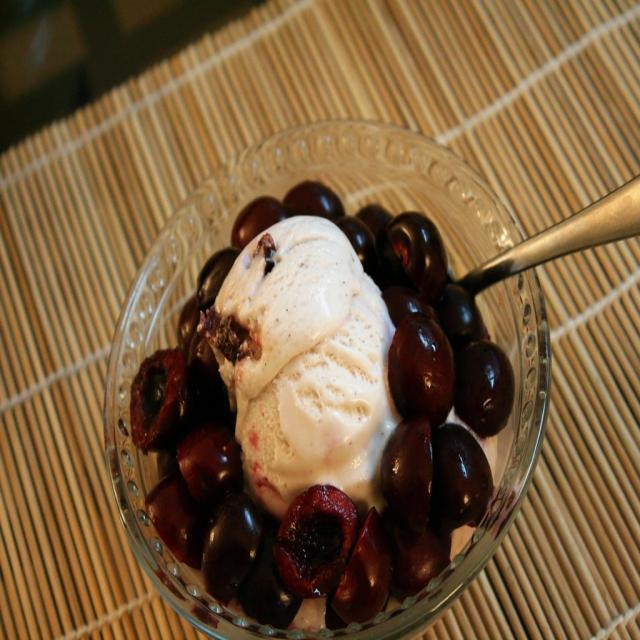Ice cream: (93, 194, 566, 640)
